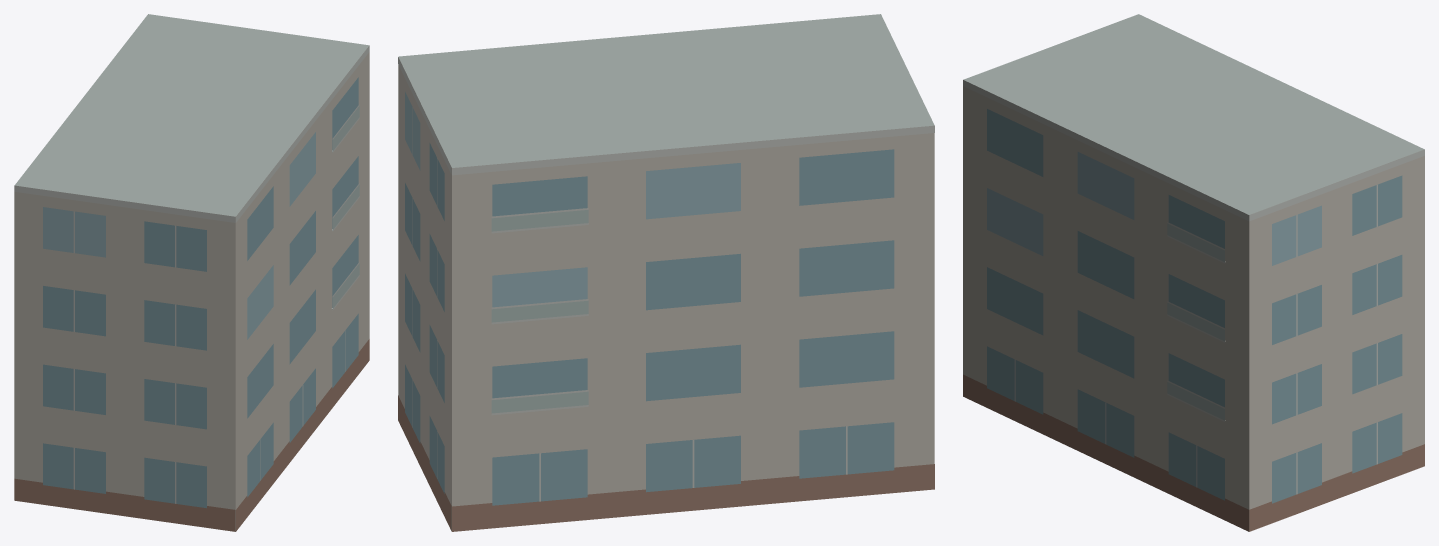
The model's file is survey-upis-32609627.glb.
3 views of the same model, side by side, from view 1: azimuth 30°, elevation 25°; view 2: azimuth 150°, elevation 25°; view 3: azimuth 270°, elevation 25° (orthographic). The views are drawn at different scales.
Parts seen in each view (by area): view 1: survey-upis-32609627.tmp; view 2: survey-upis-32609627.tmp; view 3: survey-upis-32609627.tmp.
Part boxes in pixels (x1=…): survey-upis-32609627.tmp: x1=14, y1=14, x2=369, y2=531; survey-upis-32609627.tmp: x1=398, y1=14, x2=934, y2=531; survey-upis-32609627.tmp: x1=963, y1=14, x2=1424, y2=531.
Size of the model in its own units: 16.62 by 12.2 by 16.12.
